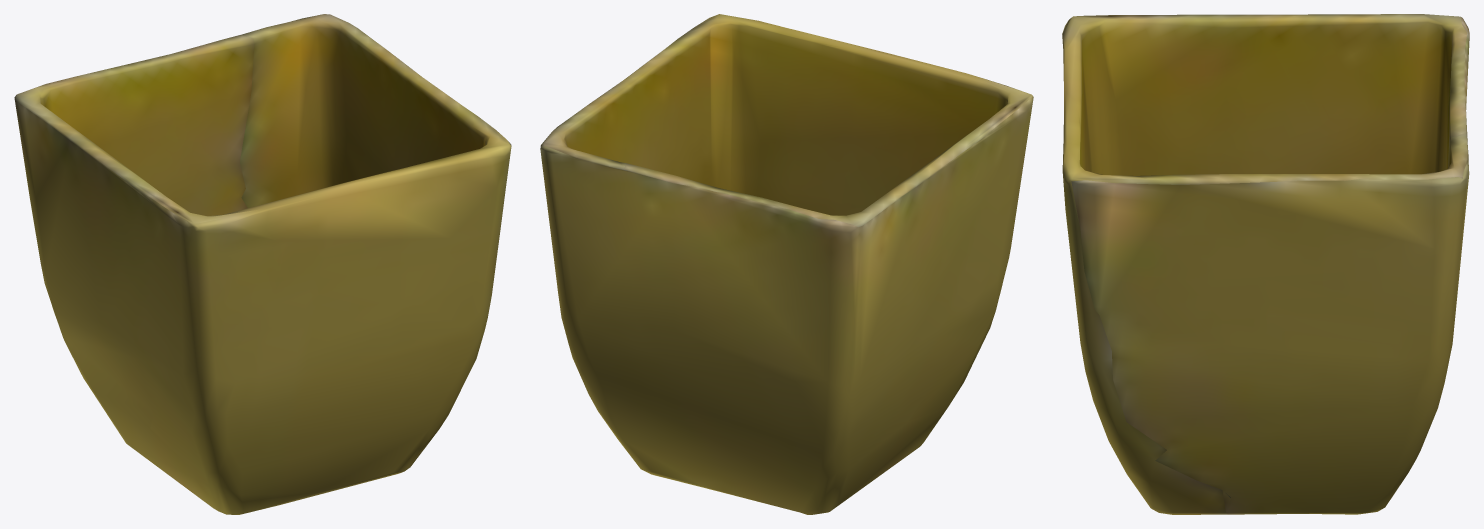
Rendered from Ecoforms_Plant_Container_QP_Harvest-medium.glb.
3 views of the same model, side by side, from view 1: azimuth 30°, elevation 25°; view 2: azimuth 150°, elevation 25°; view 3: azimuth 270°, elevation 25° (orthographic). The views are drawn at different scales.
Parts seen in each view (by area): view 1: Ecoforms_Plant_Container_QP_Harvest; view 2: Ecoforms_Plant_Container_QP_Harvest; view 3: Ecoforms_Plant_Container_QP_Harvest.
Boxes of the visible parts, left/top/right/bottom form: Ecoforms_Plant_Container_QP_Harvest: left=14, top=14, right=511, bottom=514; Ecoforms_Plant_Container_QP_Harvest: left=540, top=14, right=1033, bottom=514; Ecoforms_Plant_Container_QP_Harvest: left=1062, top=14, right=1469, bottom=514.
Size of the model in its own units: 0.0879 by 0.0898 by 0.0874.
1 material, 1 textured.
